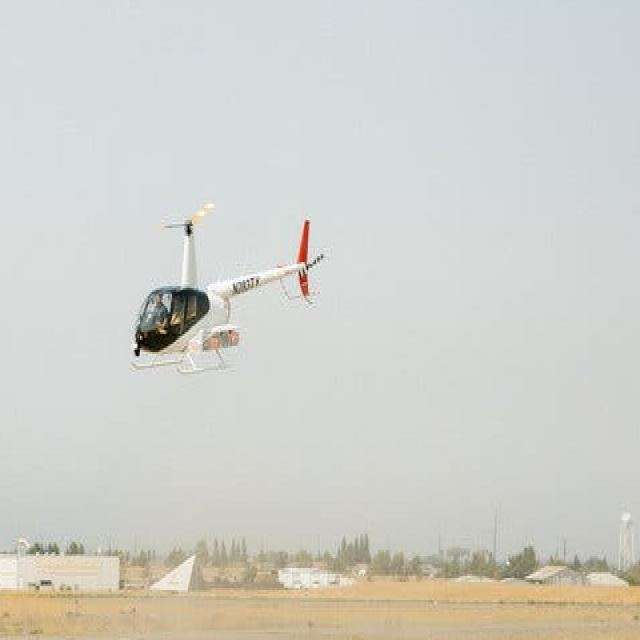helicopter: (133, 199, 324, 377)
